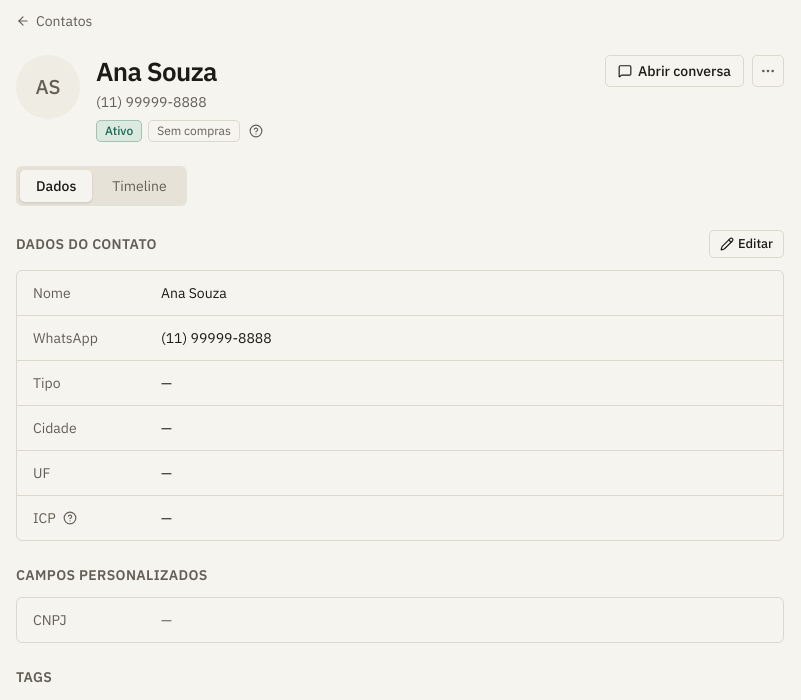
B38-01 — campos personalizados na tela › CA-B38-19: should deixar o Atendente editar os campos personalizados, sem mexer nos dados fixos
Click the button "Editar" at (746, 244), box [709,230,784,258]
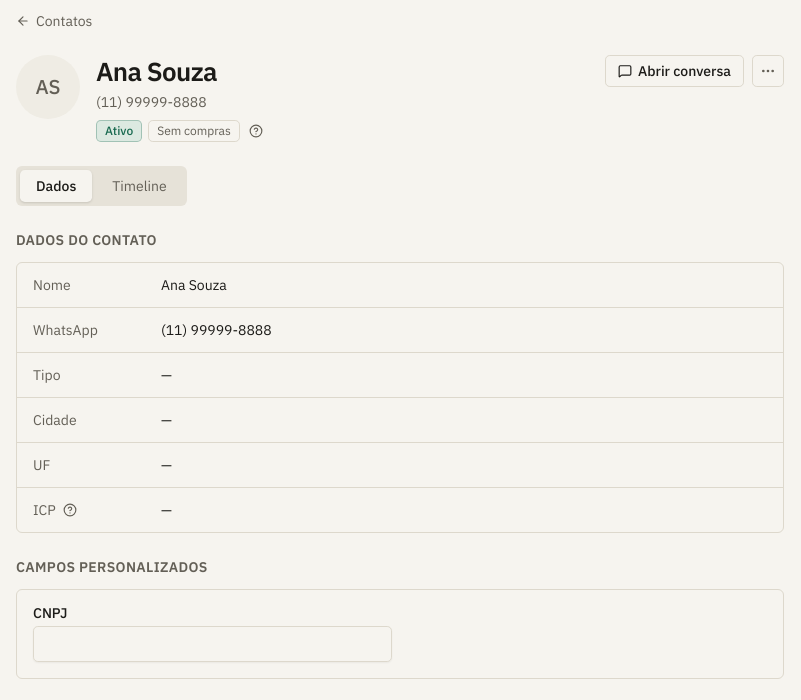
Result: the field labelled "CNPJ" is shown at [33,626,392,662]
